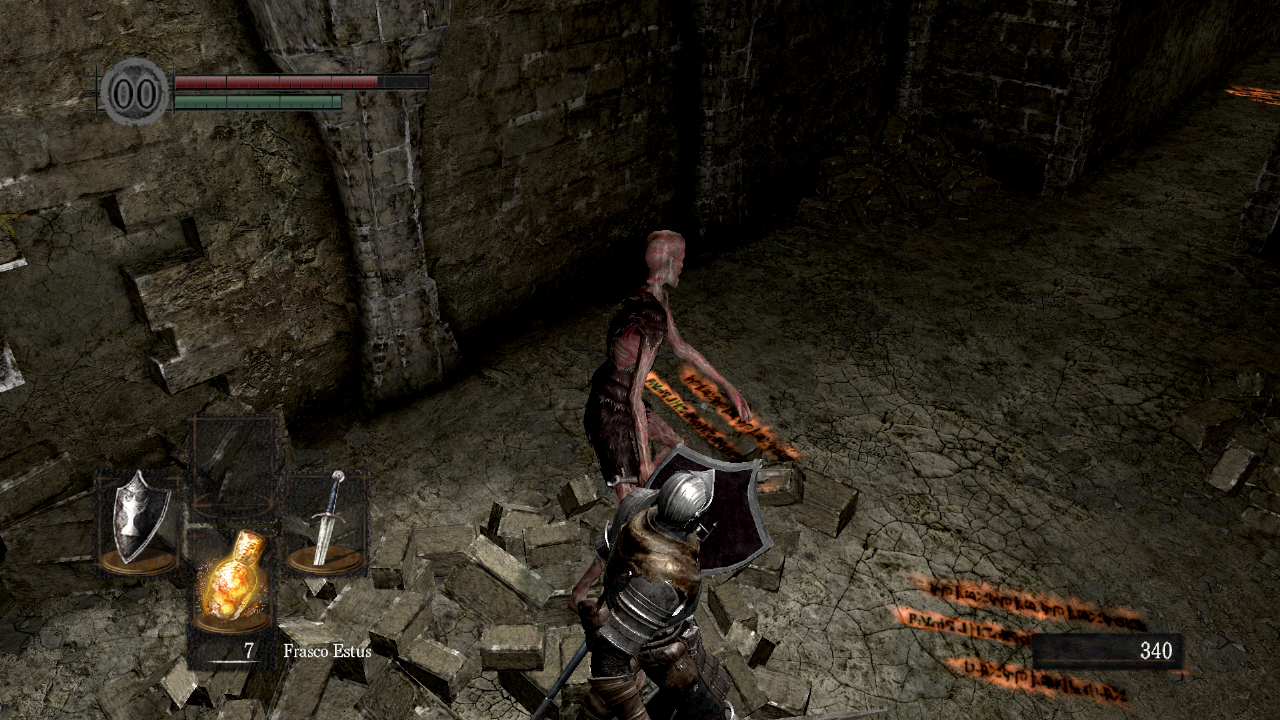hollow: (568, 230, 754, 614)
player: (528, 442, 776, 720)
